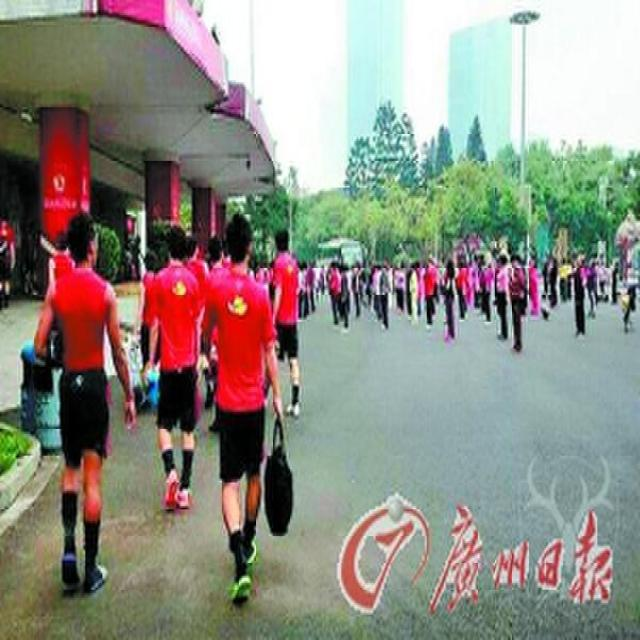non-fight: (34, 206, 131, 600), (200, 211, 294, 610), (147, 227, 208, 511)
